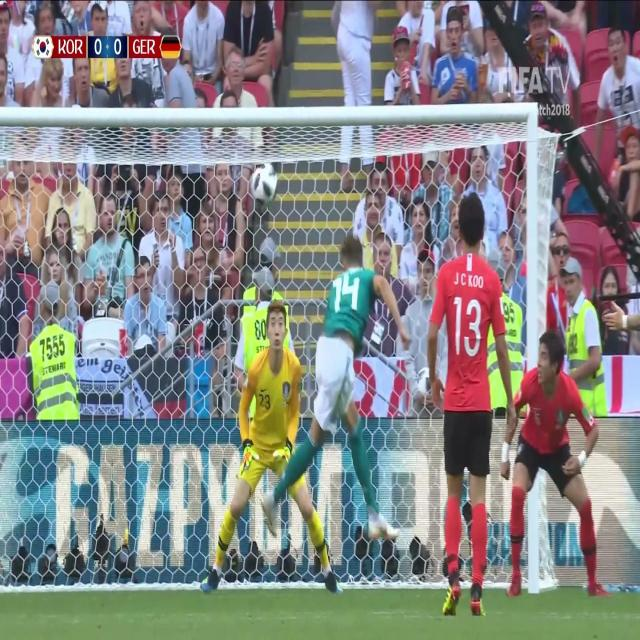ball: (248, 159, 282, 206)
player: (264, 199, 404, 583), (419, 183, 524, 620), (198, 296, 324, 598), (495, 322, 612, 602)
